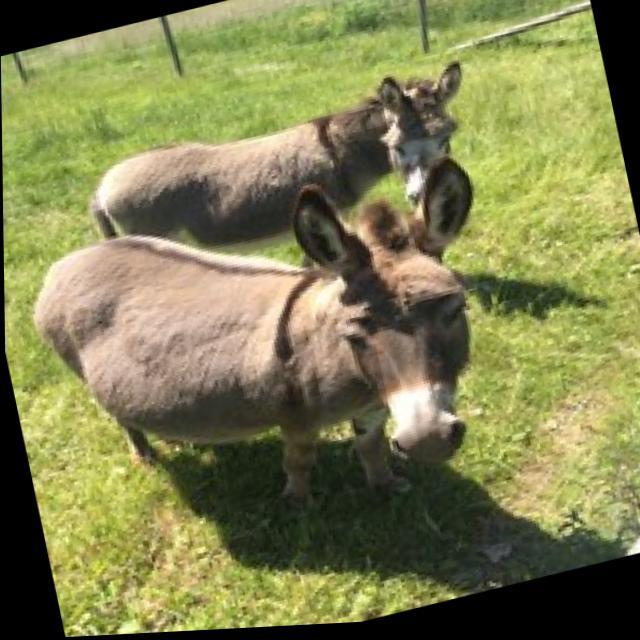Donkey: (16, 146, 528, 574), (73, 58, 486, 284)
